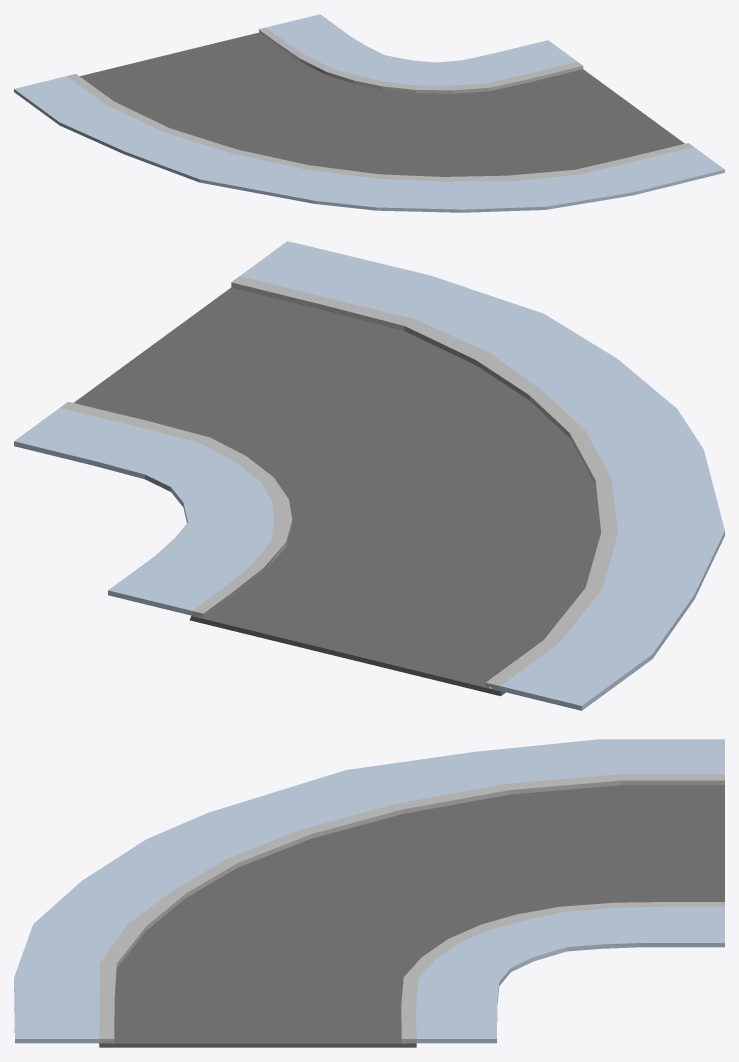
File: road_bend.glb
3 views of the same model, one above another, from view 1: azimuth 30°, elevation 25°; view 2: azimuth 150°, elevation 25°; view 3: azimuth 270°, elevation 25° (orthographic). The views are drawn at different scales.
Parts seen in each view (by area): view 1: Curve road_Material.001_0, Curve road_Material.003_0, Curve road_Material.002_0; view 2: Curve road_Material.001_0, Curve road_Material.003_0, Curve road_Material.002_0; view 3: Curve road_Material.001_0, Curve road_Material.003_0, Curve road_Material.002_0.
Boxes of the visible parts, left/top/right/bottom form: Curve road_Material.001_0: left=80, top=32, right=684, bottom=176; Curve road_Material.003_0: left=14, top=14, right=724, bottom=212; Curve road_Material.002_0: left=67, top=27, right=693, bottom=181; Curve road_Material.001_0: left=74, top=287, right=600, bottom=696; Curve road_Material.003_0: left=14, top=241, right=724, bottom=710; Curve road_Material.002_0: left=60, top=276, right=617, bottom=690; Curve road_Material.001_0: left=99, top=785, right=724, bottom=1047; Curve road_Material.003_0: left=14, top=739, right=724, bottom=1043; Curve road_Material.002_0: left=99, top=774, right=724, bottom=1043.
Bounding box in the file's own units: 149 × 2.06 × 149.
